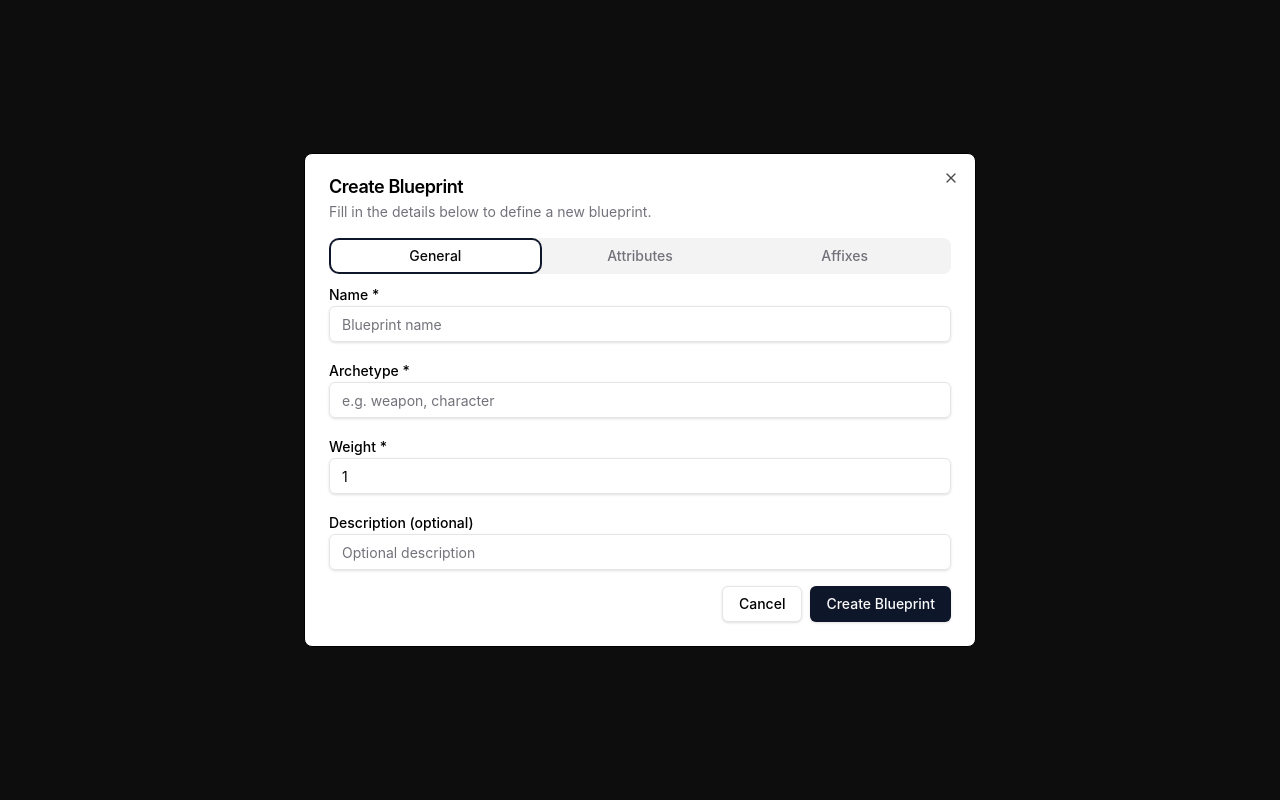
Test: BlueprintFormModal › Tab navigation › shows Add Attribute button when switching to Attributes tab
Click the tab "Attributes": point(640, 256) [538, 242, 742, 270]
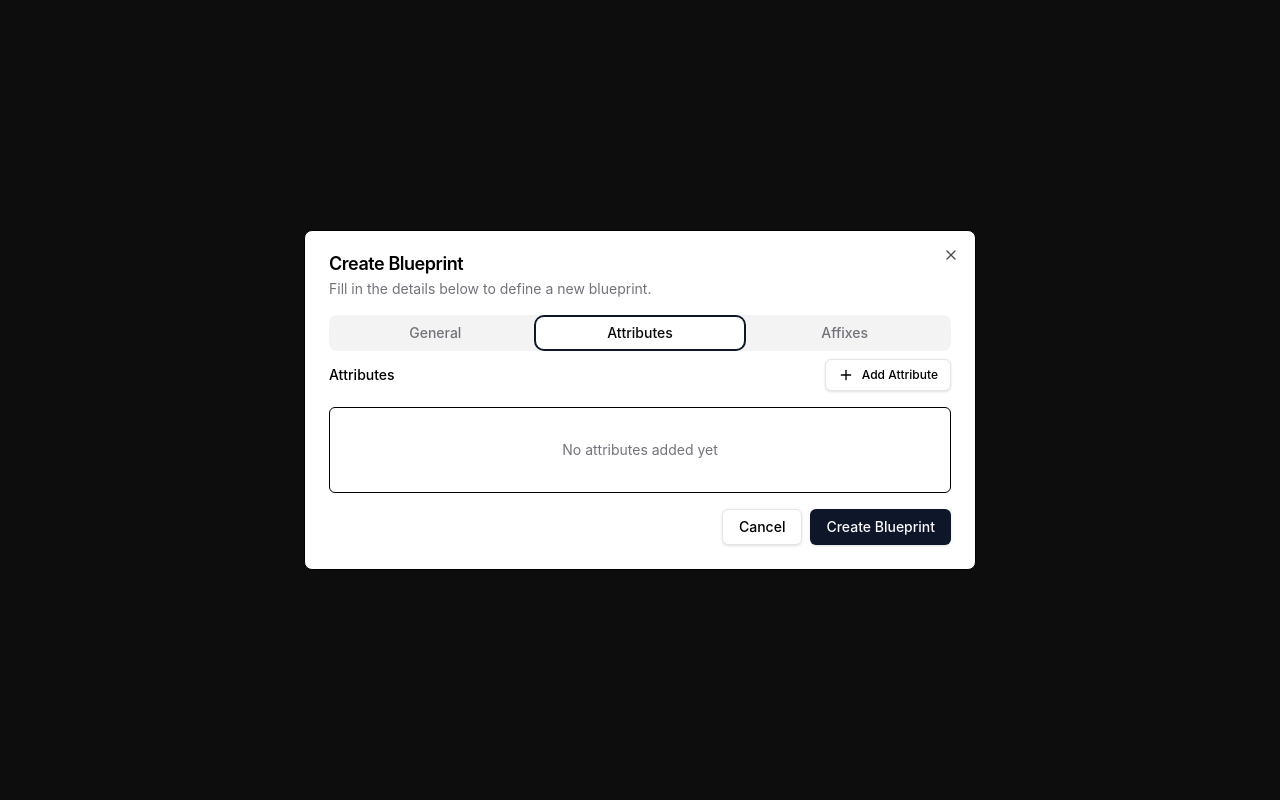
Now the button "Add Attribute" is shown, box [825, 359, 951, 391]
